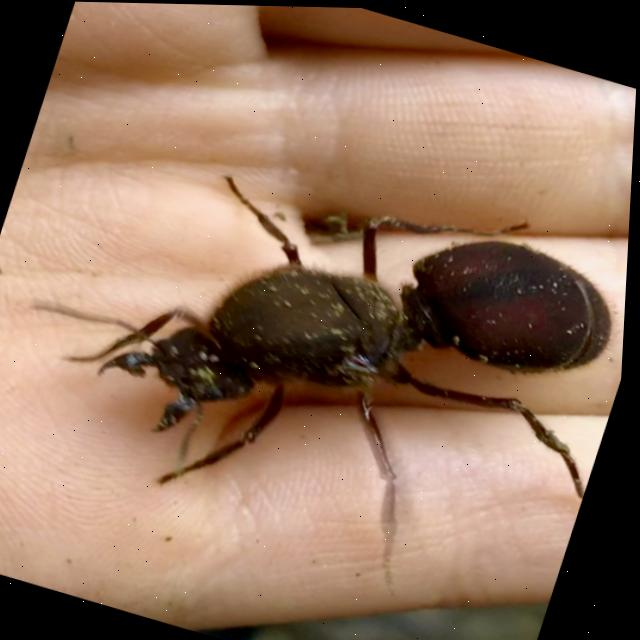Alive-Female-Dealate: (0, 92, 636, 635)
